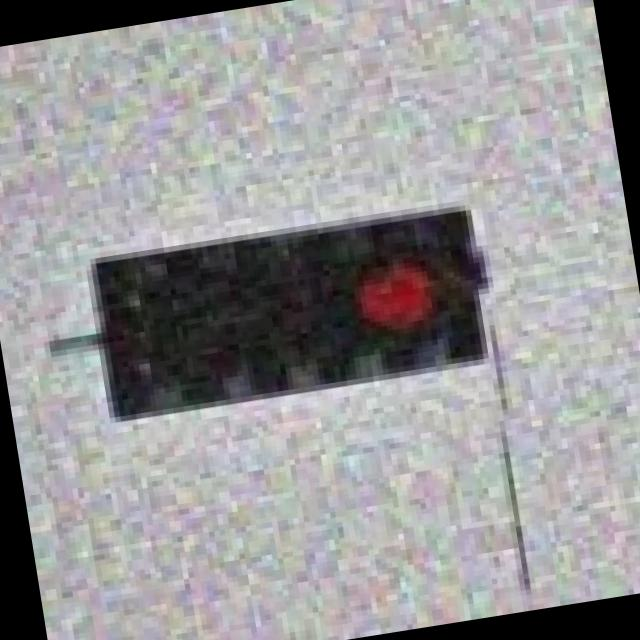red-lights: (322, 200, 470, 390)
